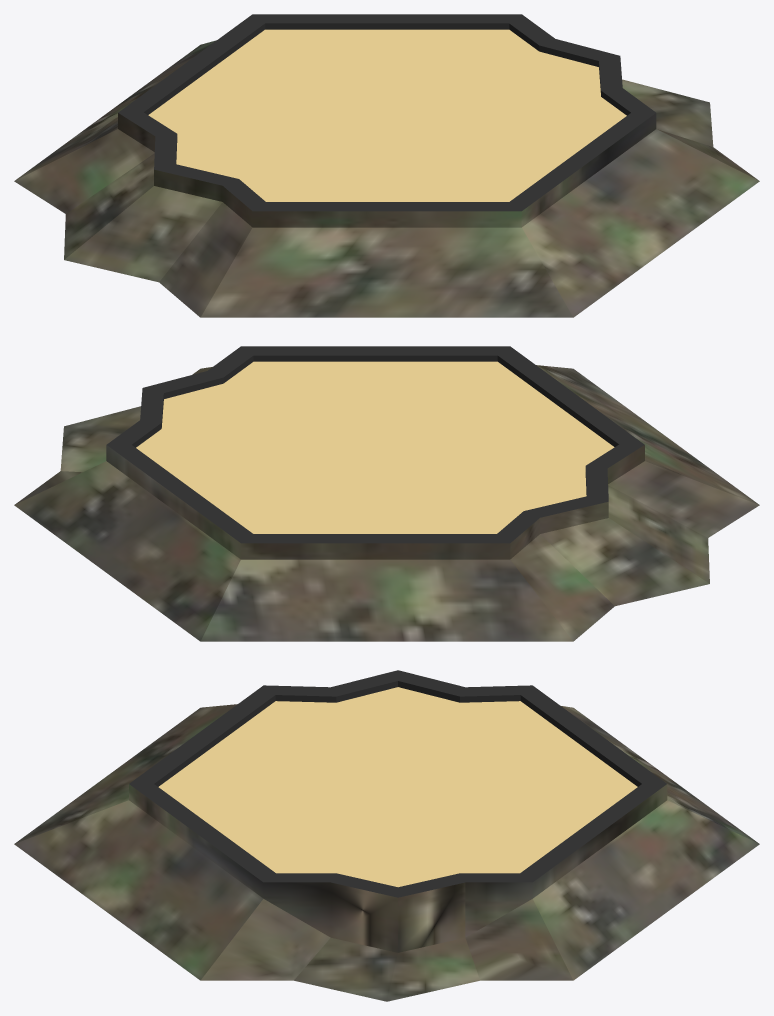
File: AmmoMachinePad.obj
The picture shows the model from 3 angles, top to bottom: view 1: azimuth 30°, elevation 25°; view 2: azimuth 150°, elevation 25°; view 3: azimuth 270°, elevation 25°; orthographic projection.
Visible parts, largest first — view 1: Pad_Cylinder; view 2: Pad_Cylinder; view 3: Pad_Cylinder.
Part boxes in pixels (x1=…): Pad_Cylinder: x1=14, y1=14, x2=759, y2=317; Pad_Cylinder: x1=14, y1=346, x2=759, y2=641; Pad_Cylinder: x1=14, y1=670, x2=759, y2=1001.
Size of the model in its own units: 4.97 by 0.4634 by 4.97.
